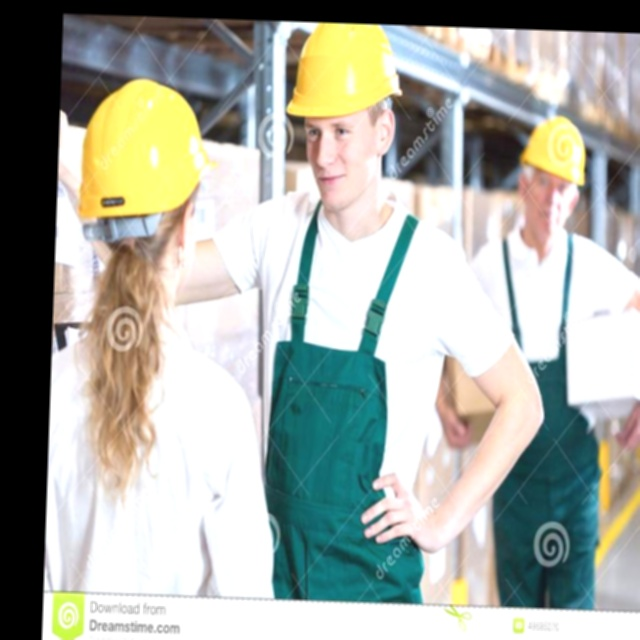Con_Casco: (73, 78, 207, 304), (283, 22, 407, 206)
Sin_Chaleco: (251, 192, 454, 585), (44, 320, 280, 588)
